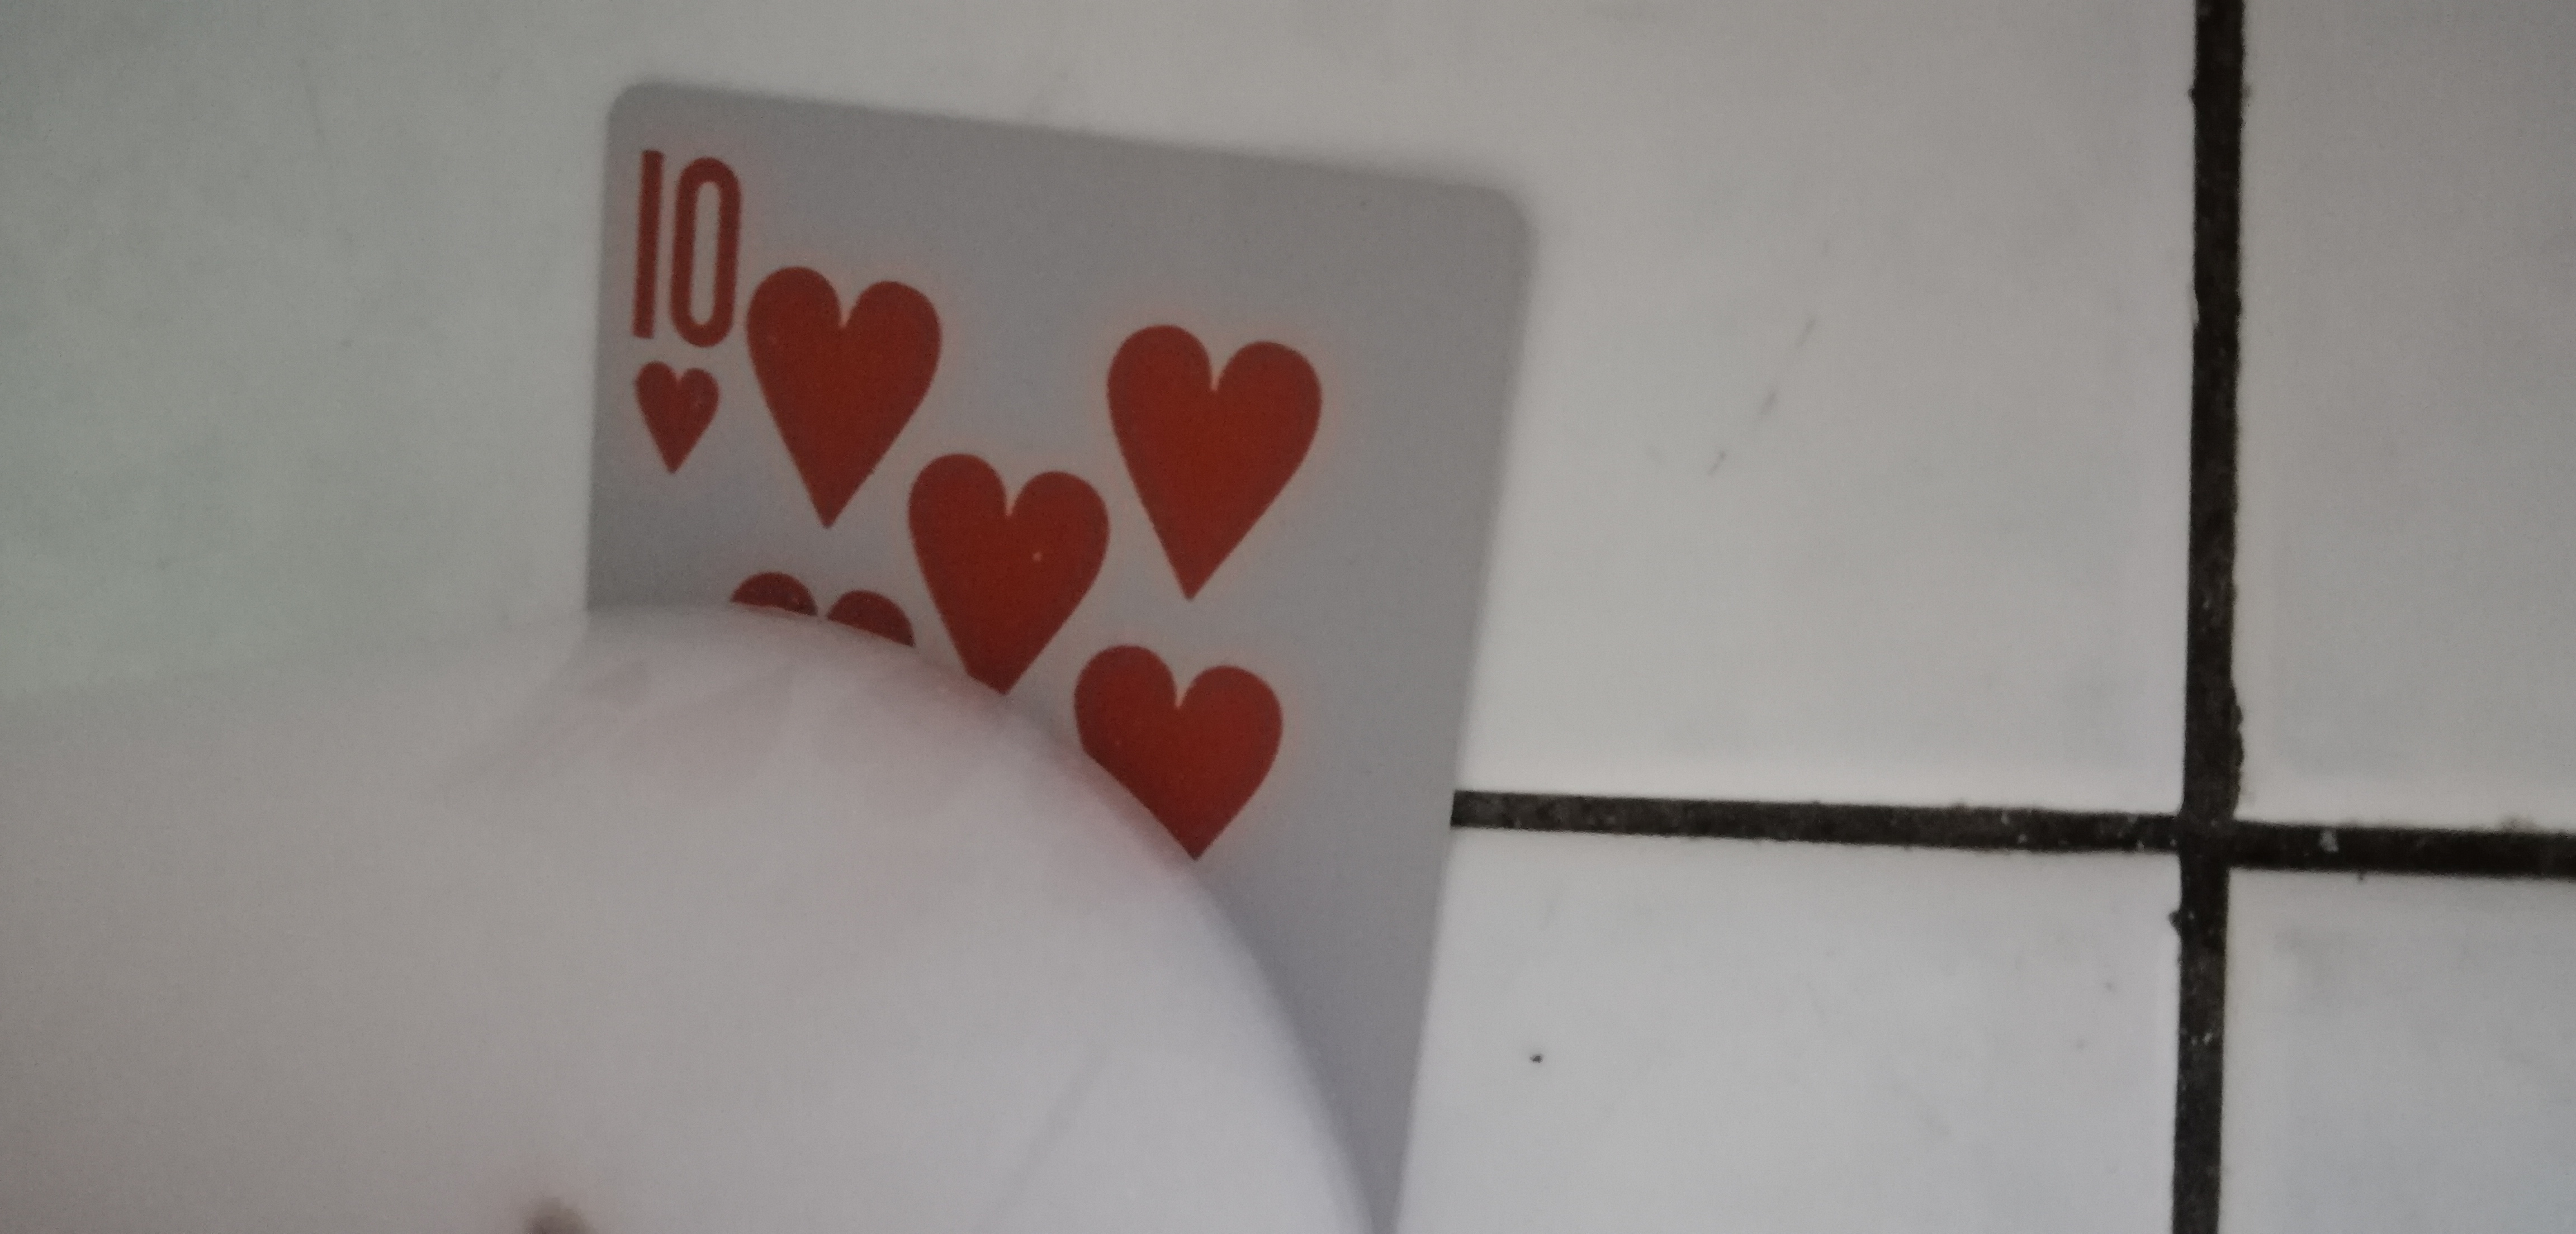ten: (537, 76, 1549, 1071)
